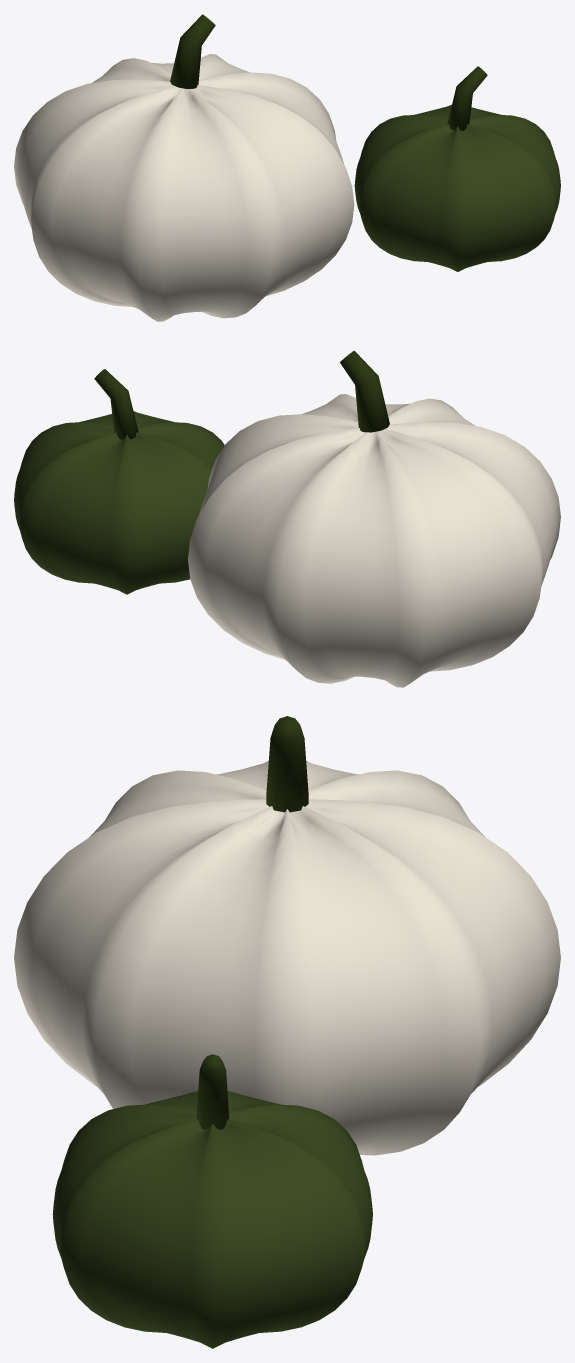
The model's file is white_pumpkin_pair.obj.
3 renders of one model, top to bottom at view 1: azimuth 30°, elevation 25°; view 2: azimuth 150°, elevation 25°; view 3: azimuth 270°, elevation 25°, orthographic. The views are drawn at different scales.
Visible parts, largest first — view 1: LH_white_pumpkin_pair; view 2: LH_white_pumpkin_pair; view 3: LH_white_pumpkin_pair.
Part boxes in pixels (<box>): LH_white_pumpkin_pair: <box>14,14,560,321</box>; LH_white_pumpkin_pair: <box>14,350,560,687</box>; LH_white_pumpkin_pair: <box>14,716,560,1348</box>.
Bounding box in the file's own units: 0.36 × 0.194 × 0.22.
